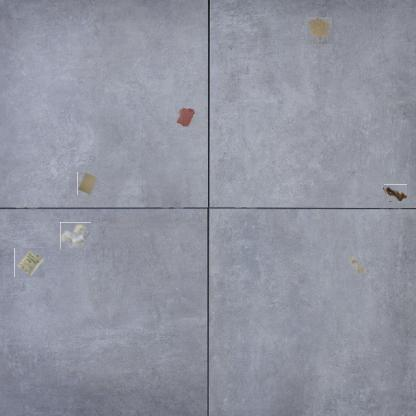dirty: (15, 247, 45, 278), (60, 222, 91, 249), (77, 172, 98, 196), (383, 184, 407, 201), (348, 254, 366, 276)
liquid: (308, 18, 332, 46), (174, 106, 196, 128)
